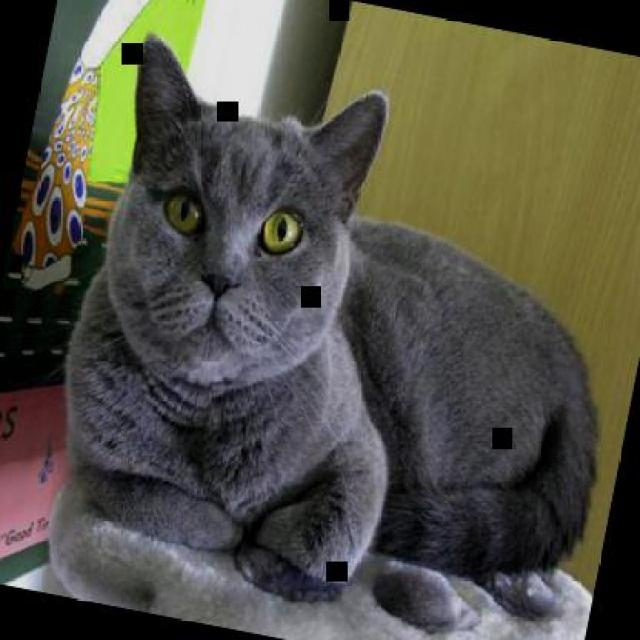cat: (31, 24, 638, 638)
